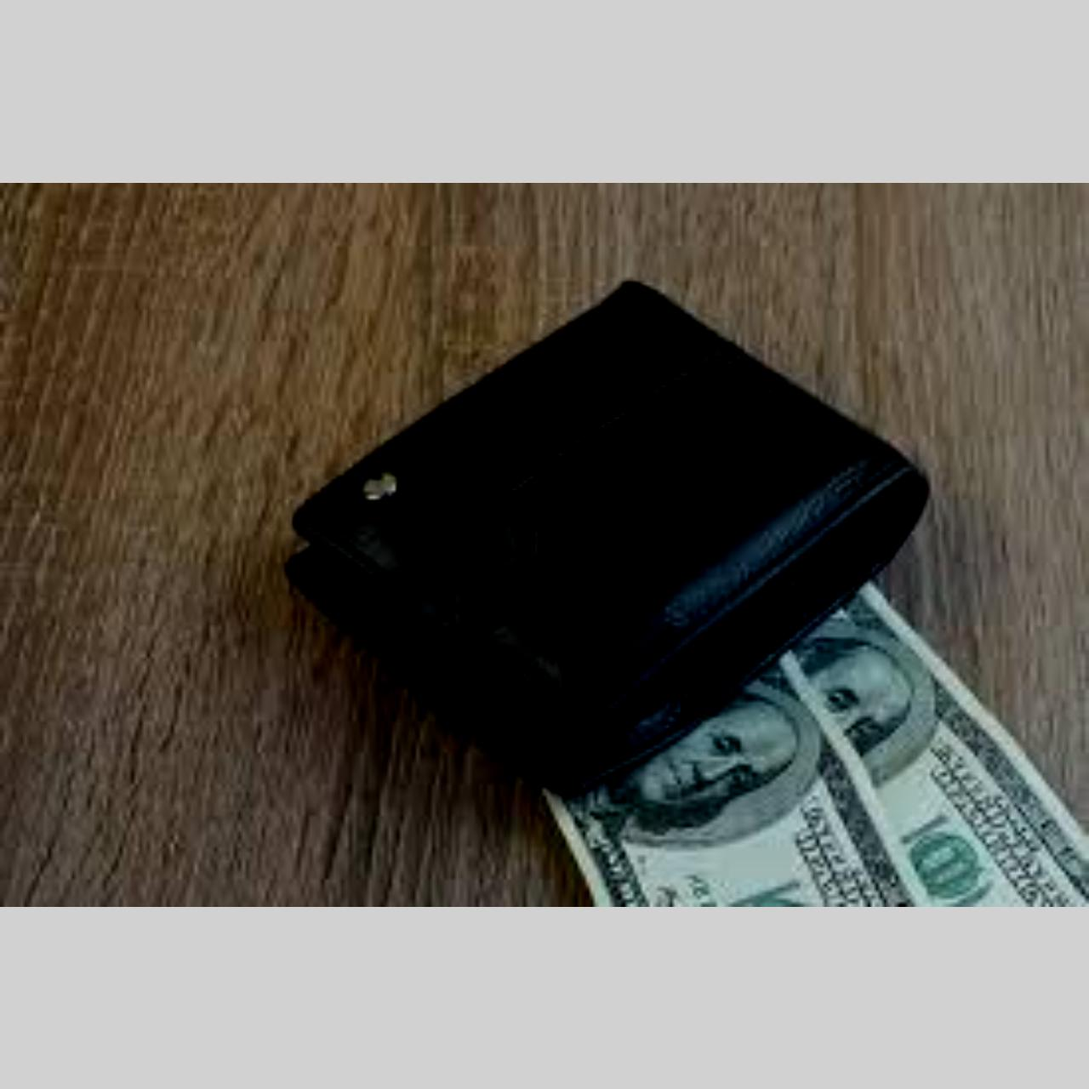wallet: (268, 254, 992, 764)
